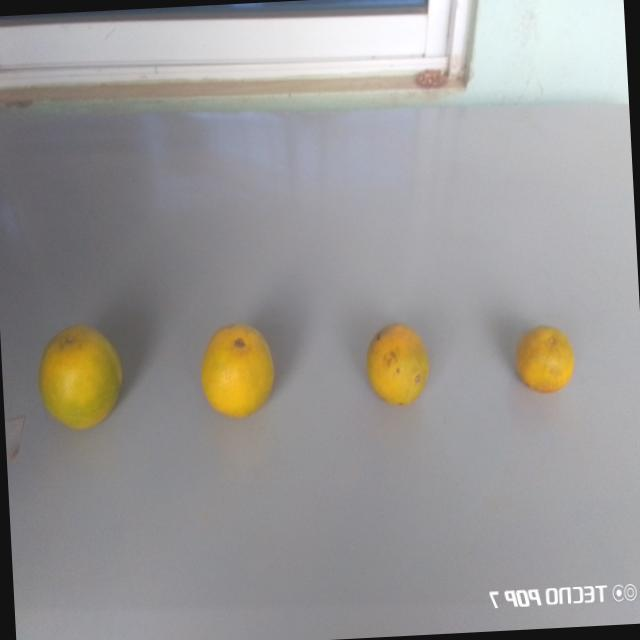Ripe orange: (40, 316, 134, 446), (185, 309, 282, 422), (356, 310, 446, 415), (516, 315, 578, 405)
